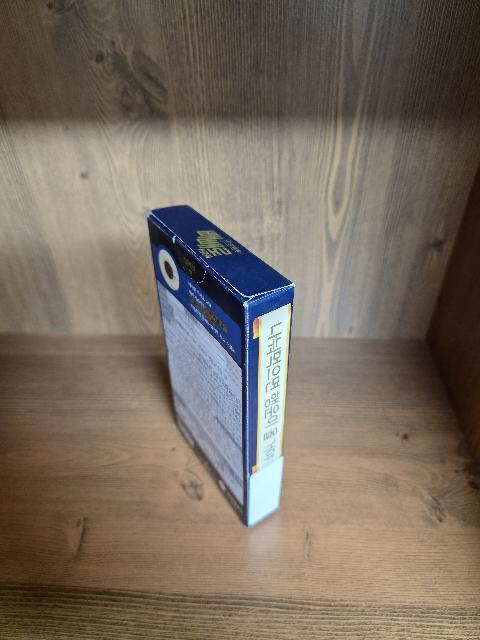pepero: (146, 204, 295, 527)
